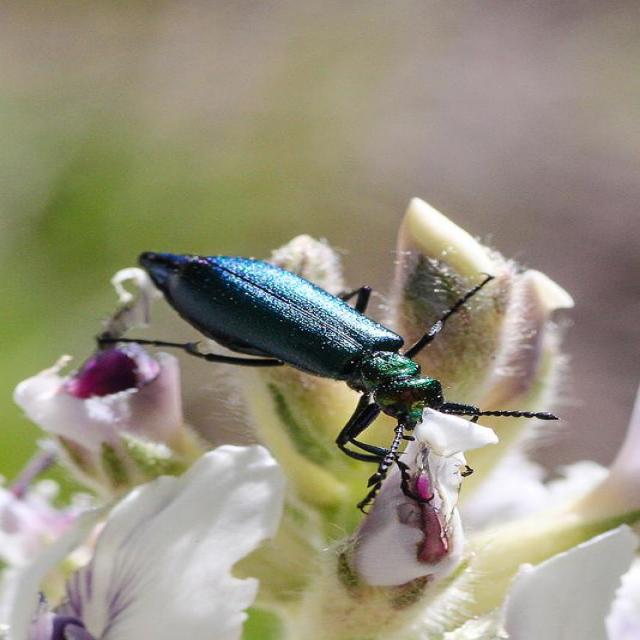BlisterBeetle-Adult-: (115, 228, 558, 505)
